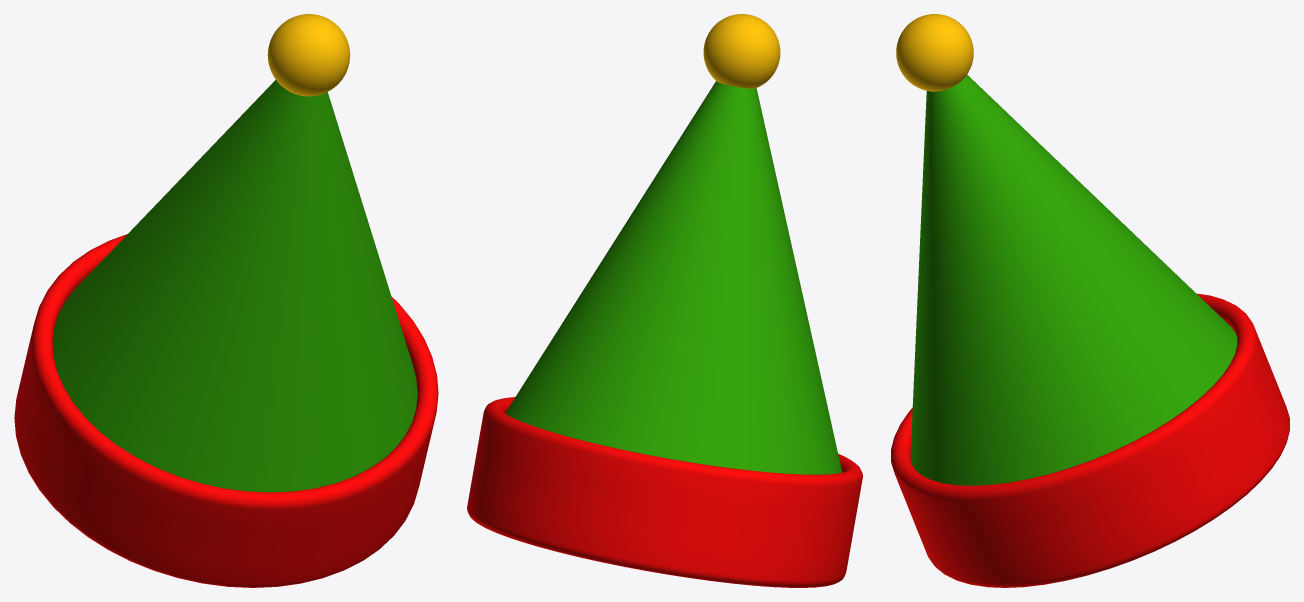
The model's file is elfsHat.gltf.
The picture shows the model from 3 angles, left to right: view 1: azimuth 30°, elevation 25°; view 2: azimuth 150°, elevation 25°; view 3: azimuth 270°, elevation 25°; orthographic projection. The views are drawn at different scales.
Parts seen in each view (by area): view 1: Cone, Tube, Sphere; view 2: Cone, Tube, Sphere; view 3: Cone, Tube, Sphere.
Boxes of the visible parts, <box> form: Cone: <box>52,80,417,492</box>; Tube: <box>14,234,438,587</box>; Sphere: <box>267,14,350,96</box>; Cone: <box>505,81,842,474</box>; Tube: <box>467,397,862,587</box>; Sphere: <box>703,14,780,88</box>; Cone: <box>910,74,1237,485</box>; Tube: <box>891,293,1289,587</box>; Sphere: <box>896,14,973,91</box>.
Bounding box in the file's own units: 40 × 60.15 × 41.05.
